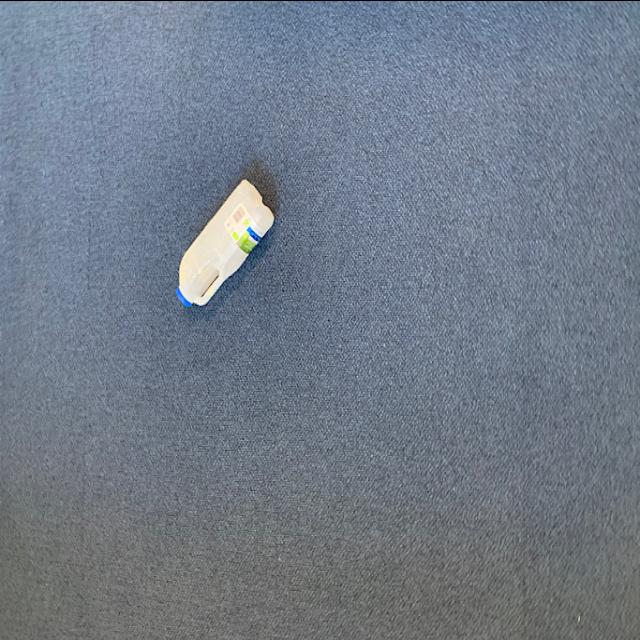HDPEM: (172, 178, 274, 314)
